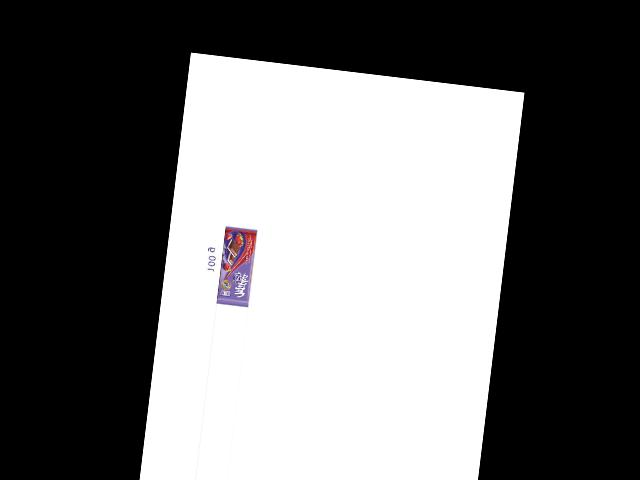chocolate: (212, 225, 257, 307)
